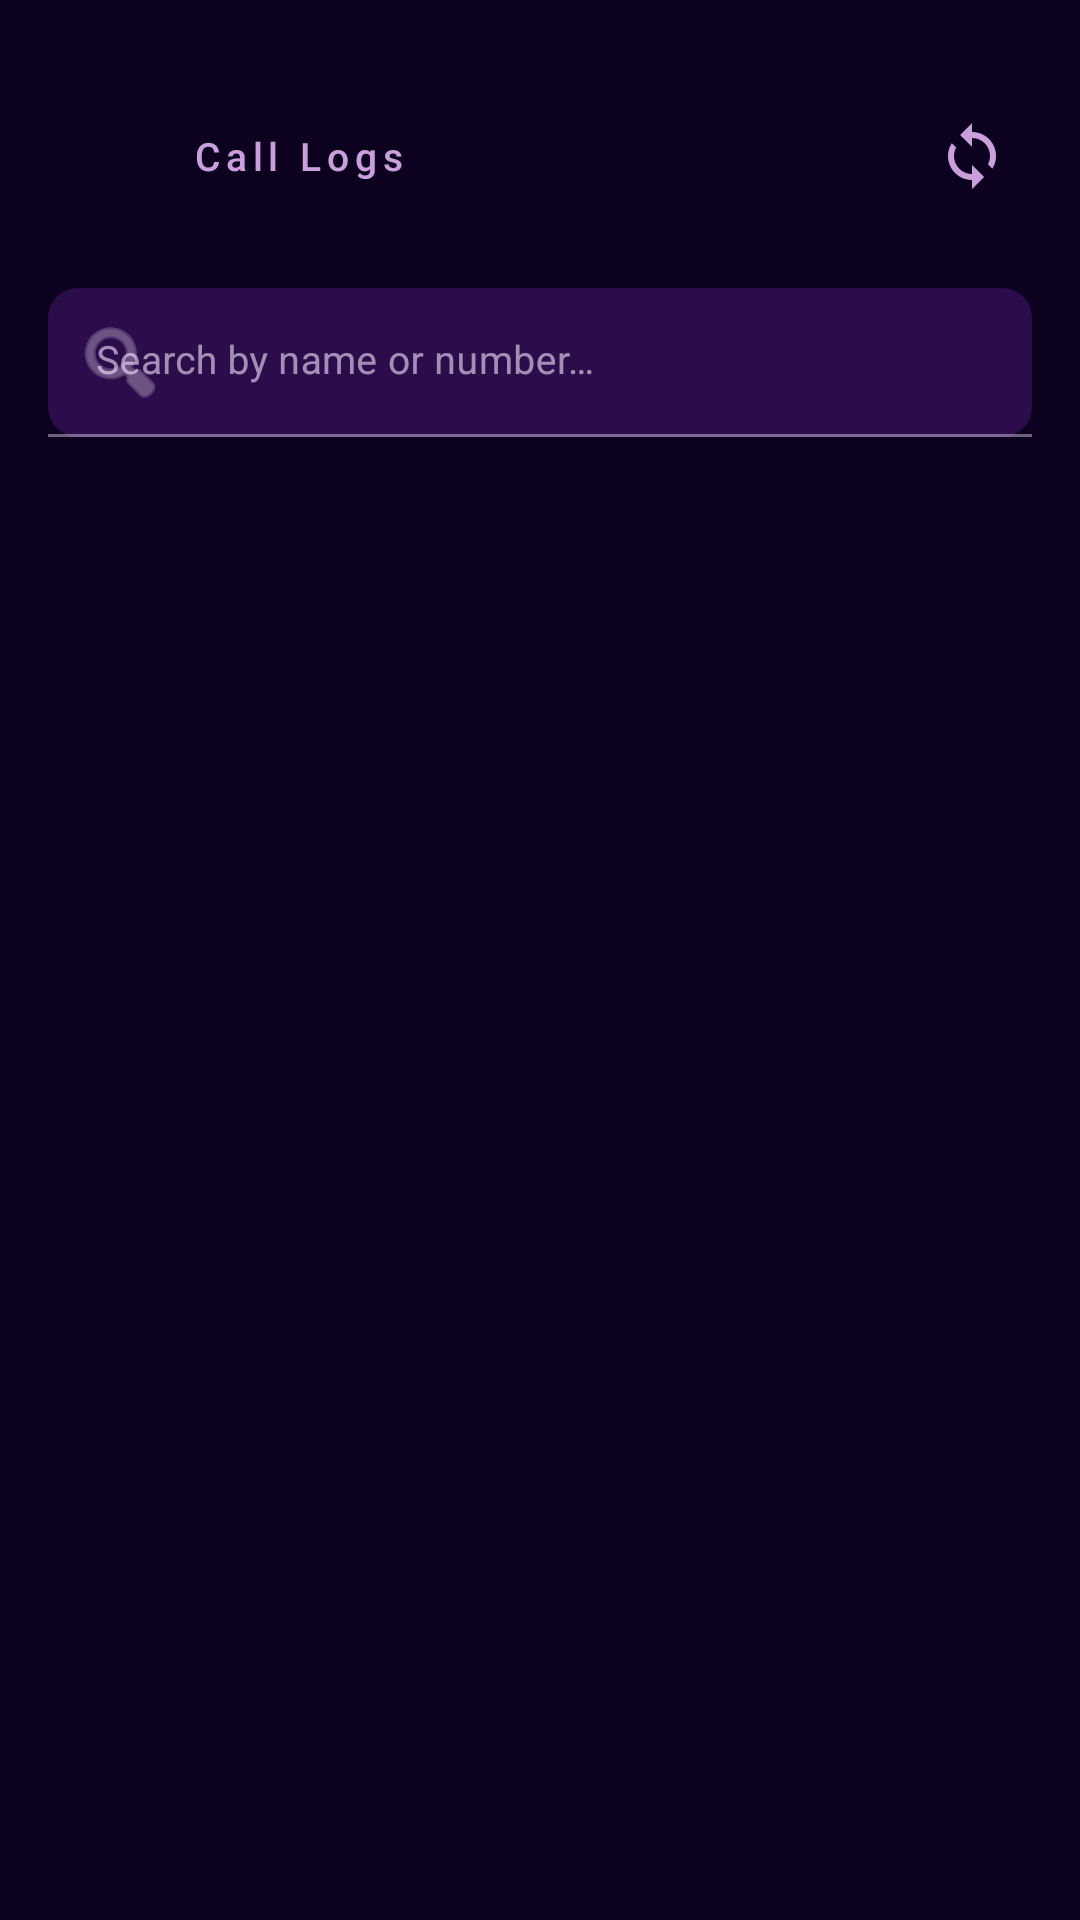

Icons on this 1080×1920 Android screen, each with the point to tap as (x,y):
Refresh: (972,156)
